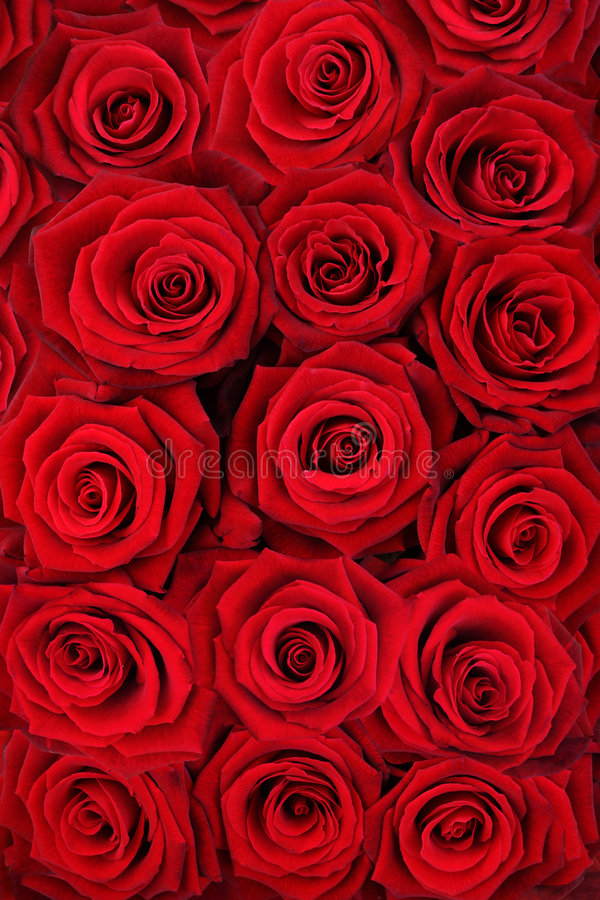RedRose: (58, 179, 285, 365), (7, 404, 200, 592), (414, 426, 588, 614), (213, 727, 435, 872), (250, 380, 444, 542), (224, 557, 398, 730), (254, 0, 414, 181), (44, 15, 204, 190), (16, 758, 213, 893), (20, 623, 208, 760), (394, 758, 573, 891), (429, 633, 599, 767), (451, 264, 600, 408), (433, 107, 595, 223), (289, 203, 418, 347), (405, 0, 584, 66)
